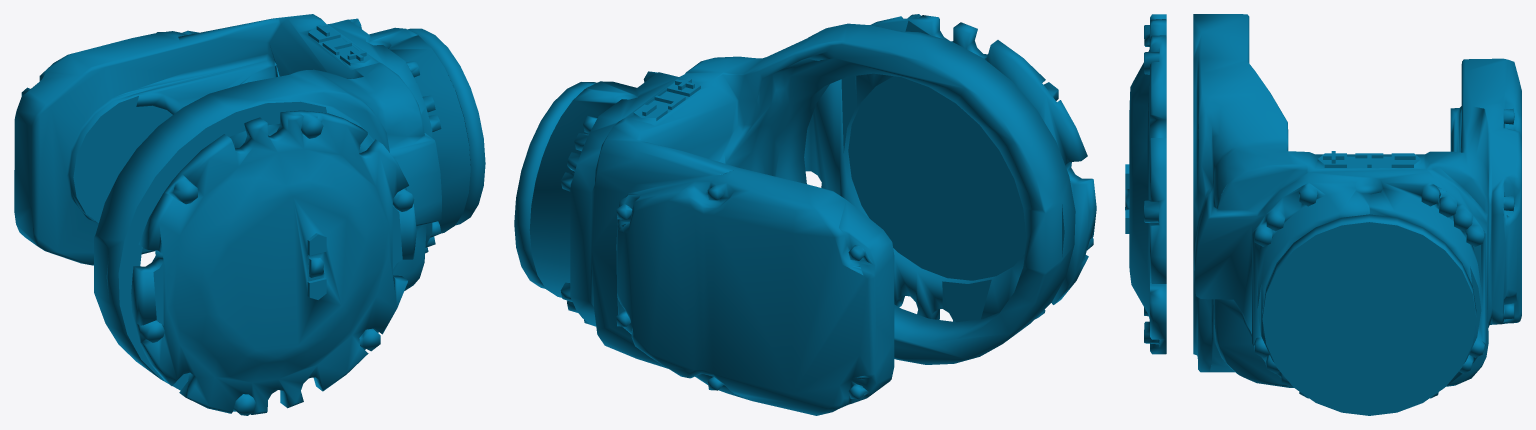
The picture shows the model from 3 angles, left to right: view 1: azimuth 30°, elevation 25°; view 2: azimuth 150°, elevation 25°; view 3: azimuth 270°, elevation 25°; orthographic projection. The views are drawn at different scales.
Visible parts, largest first — view 1: link_5_b; view 2: link_5_b; view 3: link_5_b.
Part boxes in pixels (<box>): link_5_b: <box>14,14,485,415</box>; link_5_b: <box>514,14,1096,415</box>; link_5_b: <box>1125,14,1521,415</box>.
Size of the model in its own units: 0.3504 by 0.2837 by 0.2439.
